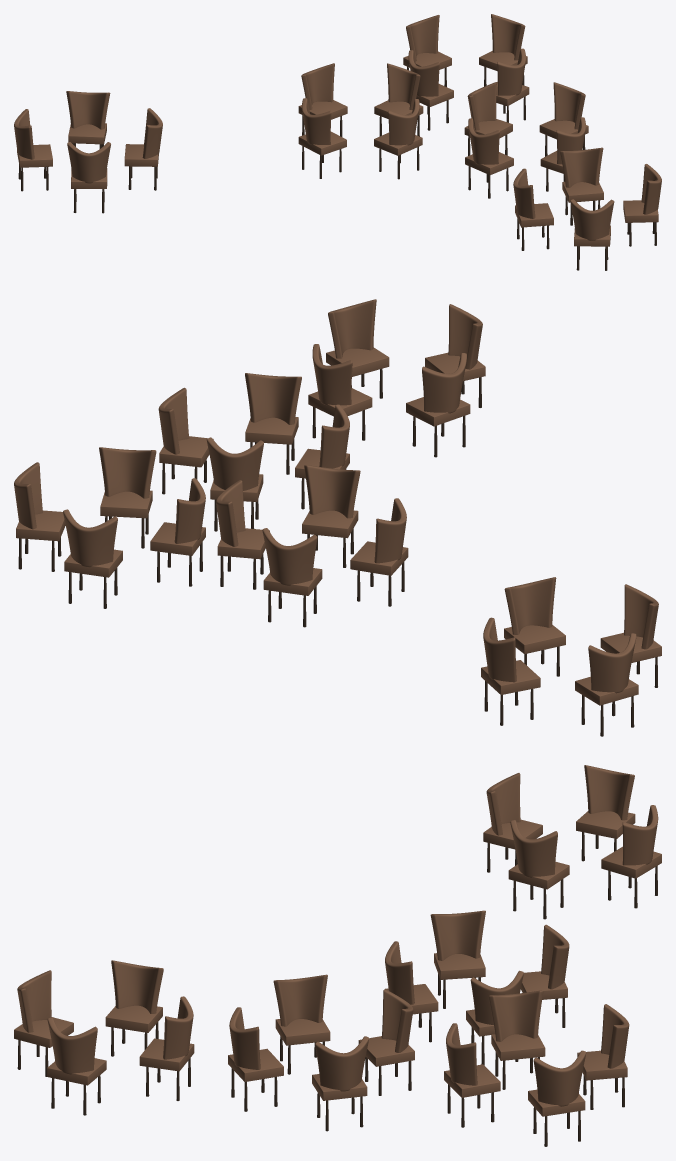
3 renders of one model, top to bottom at view 1: azimuth 30°, elevation 25°; view 2: azimuth 150°, elevation 25°; view 3: azimuth 270°, elevation 25°, orthographic. The views are drawn at different scales.
Visible parts, largest first — view 1: n01247, n01243, n01249, n01253, n01245, n01255, n01259, n01256, n01254, n01257, n01251, n01260 (+8 smaller); view 2: n01254, n01258, n01250, n01242, n01246, n01260, n01256, n01244, n01248, n01243, n01257, n01255 (+8 smaller); view 3: n01261, n01248, n01253, n01257, n01244, n01251, n01259, n01246, n01242, n01252, n01249, n01250 (+8 smaller).
Boxes of the visible parts, bbox=[...] form: n01247: bbox=[560, 147, 603, 225]; n01243: bbox=[66, 91, 110, 148]; n01249: bbox=[570, 199, 614, 270]; n01253: bbox=[465, 118, 513, 198]; n01245: bbox=[67, 142, 110, 213]; n01255: bbox=[374, 63, 423, 136]; n01259: bbox=[479, 14, 527, 86]; n01256: bbox=[298, 63, 347, 136]; n01254: bbox=[374, 99, 422, 179]; n01257: bbox=[298, 98, 346, 178]; n01251: bbox=[539, 82, 588, 156]; n01260: bbox=[403, 15, 451, 86]; n01254: bbox=[302, 465, 360, 567]; n01258: bbox=[99, 447, 156, 548]; n01250: bbox=[245, 373, 301, 474]; n01242: bbox=[504, 577, 565, 676]; n01246: bbox=[326, 299, 389, 398]; n01260: bbox=[63, 509, 122, 608]; n01256: bbox=[262, 528, 322, 627]; n01244: bbox=[575, 633, 638, 736]; n01248: bbox=[406, 353, 470, 457]; n01243: bbox=[481, 617, 540, 725]; n01257: bbox=[350, 498, 408, 606]; n01255: bbox=[216, 480, 269, 589]; n01261: bbox=[489, 990, 545, 1089]; n01248: bbox=[105, 960, 163, 1056]; n01253: bbox=[273, 974, 330, 1074]; n01257: bbox=[430, 910, 485, 1008]; n01244: bbox=[576, 765, 635, 861]; n01251: bbox=[312, 1036, 369, 1131]; n01259: bbox=[528, 1050, 586, 1146]; n01246: bbox=[47, 1017, 106, 1115]; n01242: bbox=[508, 820, 569, 919]; n01252: bbox=[358, 989, 414, 1095]; n01249: bbox=[14, 970, 73, 1076]; n01250: bbox=[228, 1007, 283, 1111].
Size of the model in its own units: 8.43 by 1.11 by 7.64.
